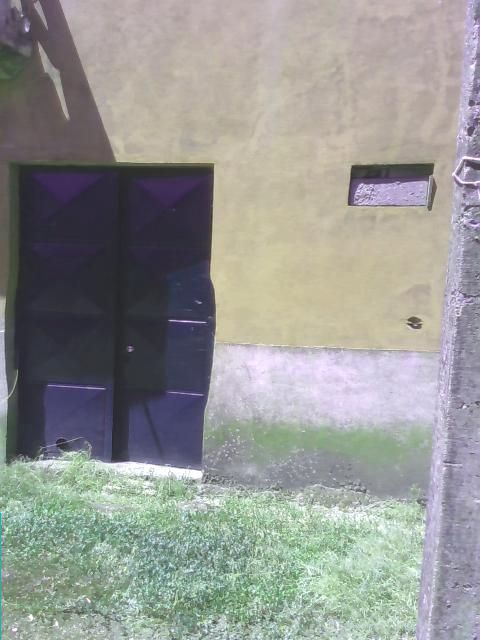closed_door: (1, 160, 214, 484)
